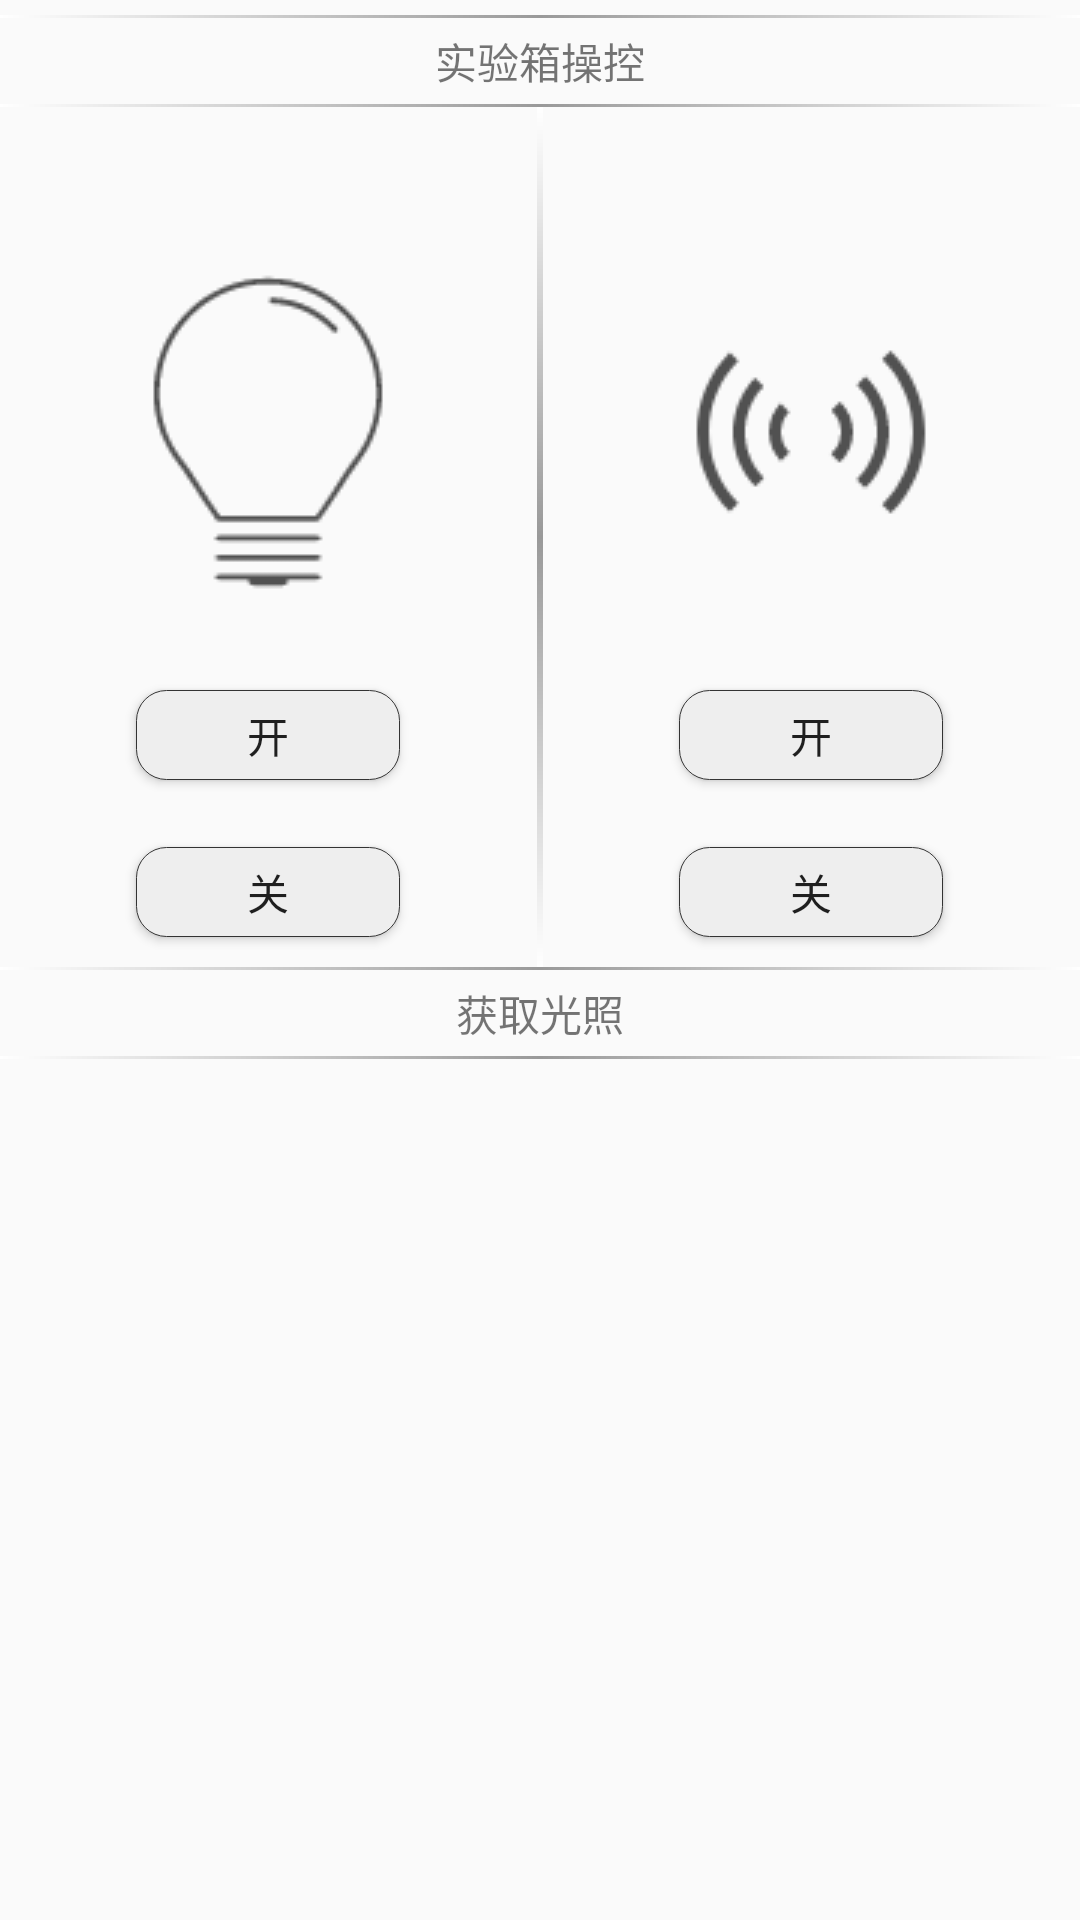

Locate icon controls on the screen. Image size 1080 × 1920, boxes as [left=x1, top=y1, right=x2, bottom=y2].
fengmingqi: [left=696, top=350, right=926, bottom=514]
